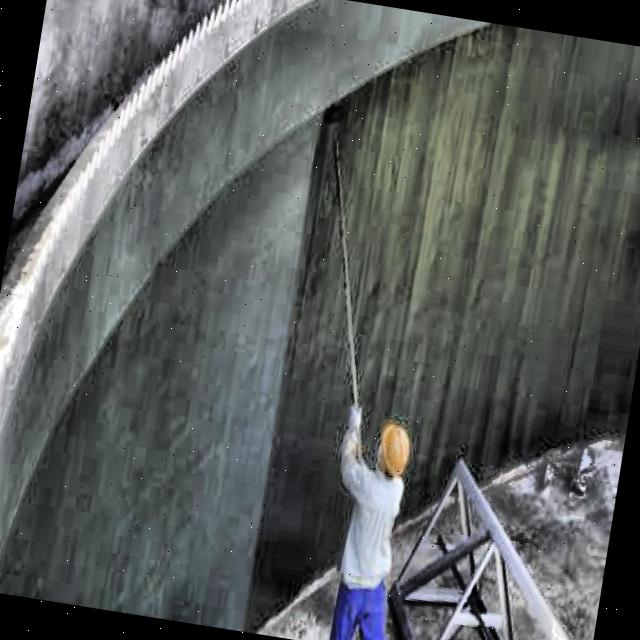helmet: (370, 418, 419, 485)
